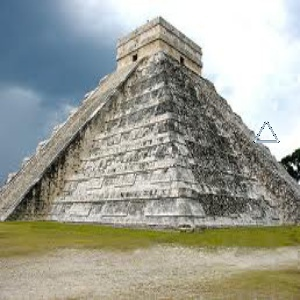triangle: (249, 118, 281, 145)
